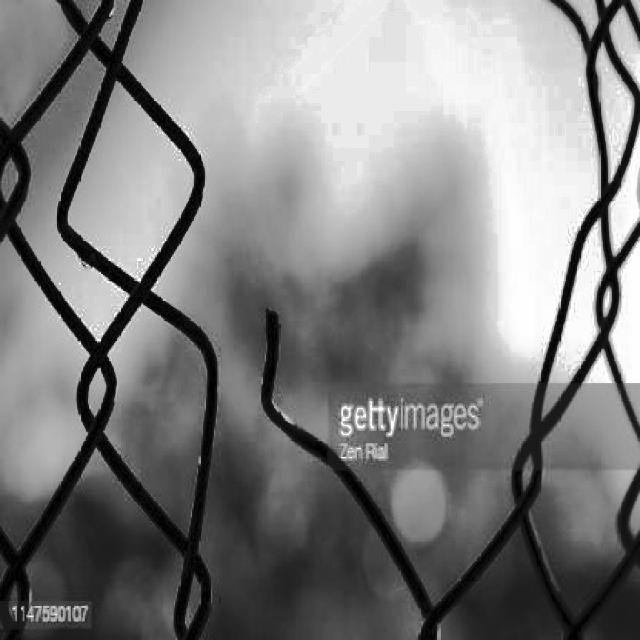anomaly-fence: (107, 12, 618, 637)
